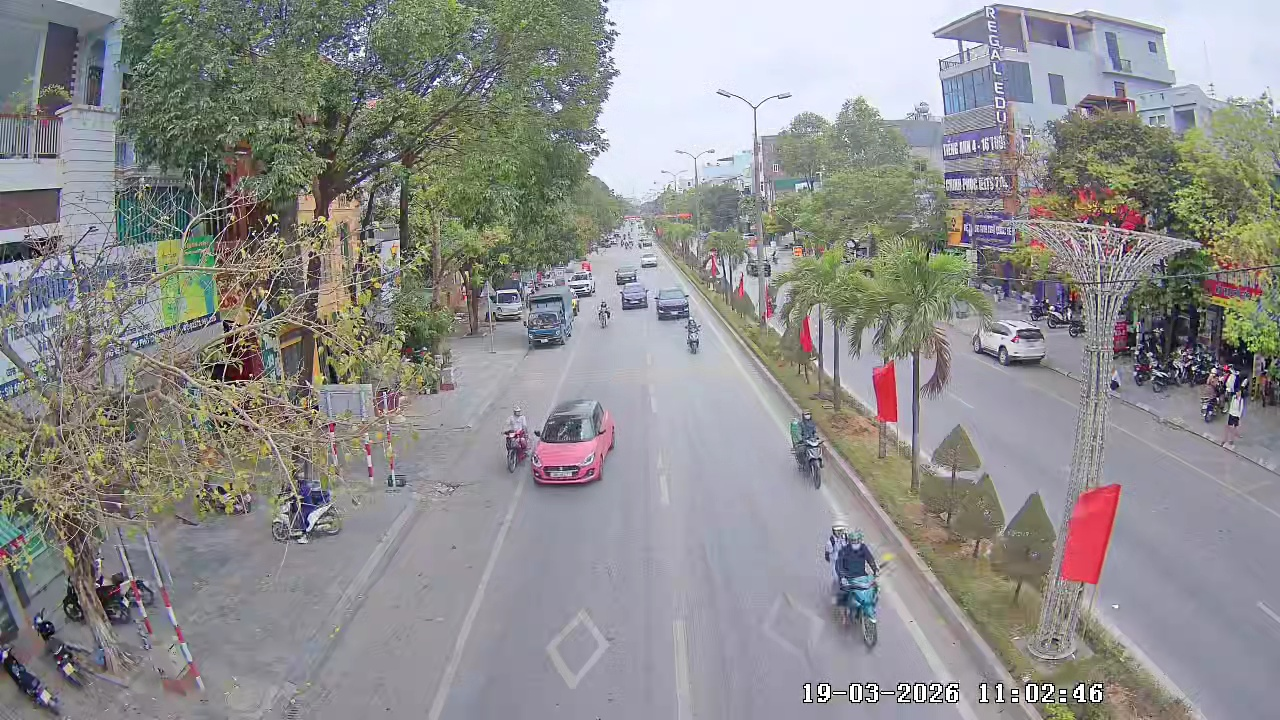car: (529, 398, 616, 485), (1002, 323, 1048, 367), (971, 320, 1012, 364), (654, 285, 691, 319), (620, 283, 650, 311), (612, 265, 641, 288)
motorbike: (825, 524, 886, 650), (271, 479, 345, 543), (788, 407, 828, 488), (501, 405, 530, 473), (682, 318, 702, 354), (596, 298, 611, 328)
truck: (523, 295, 570, 348)
